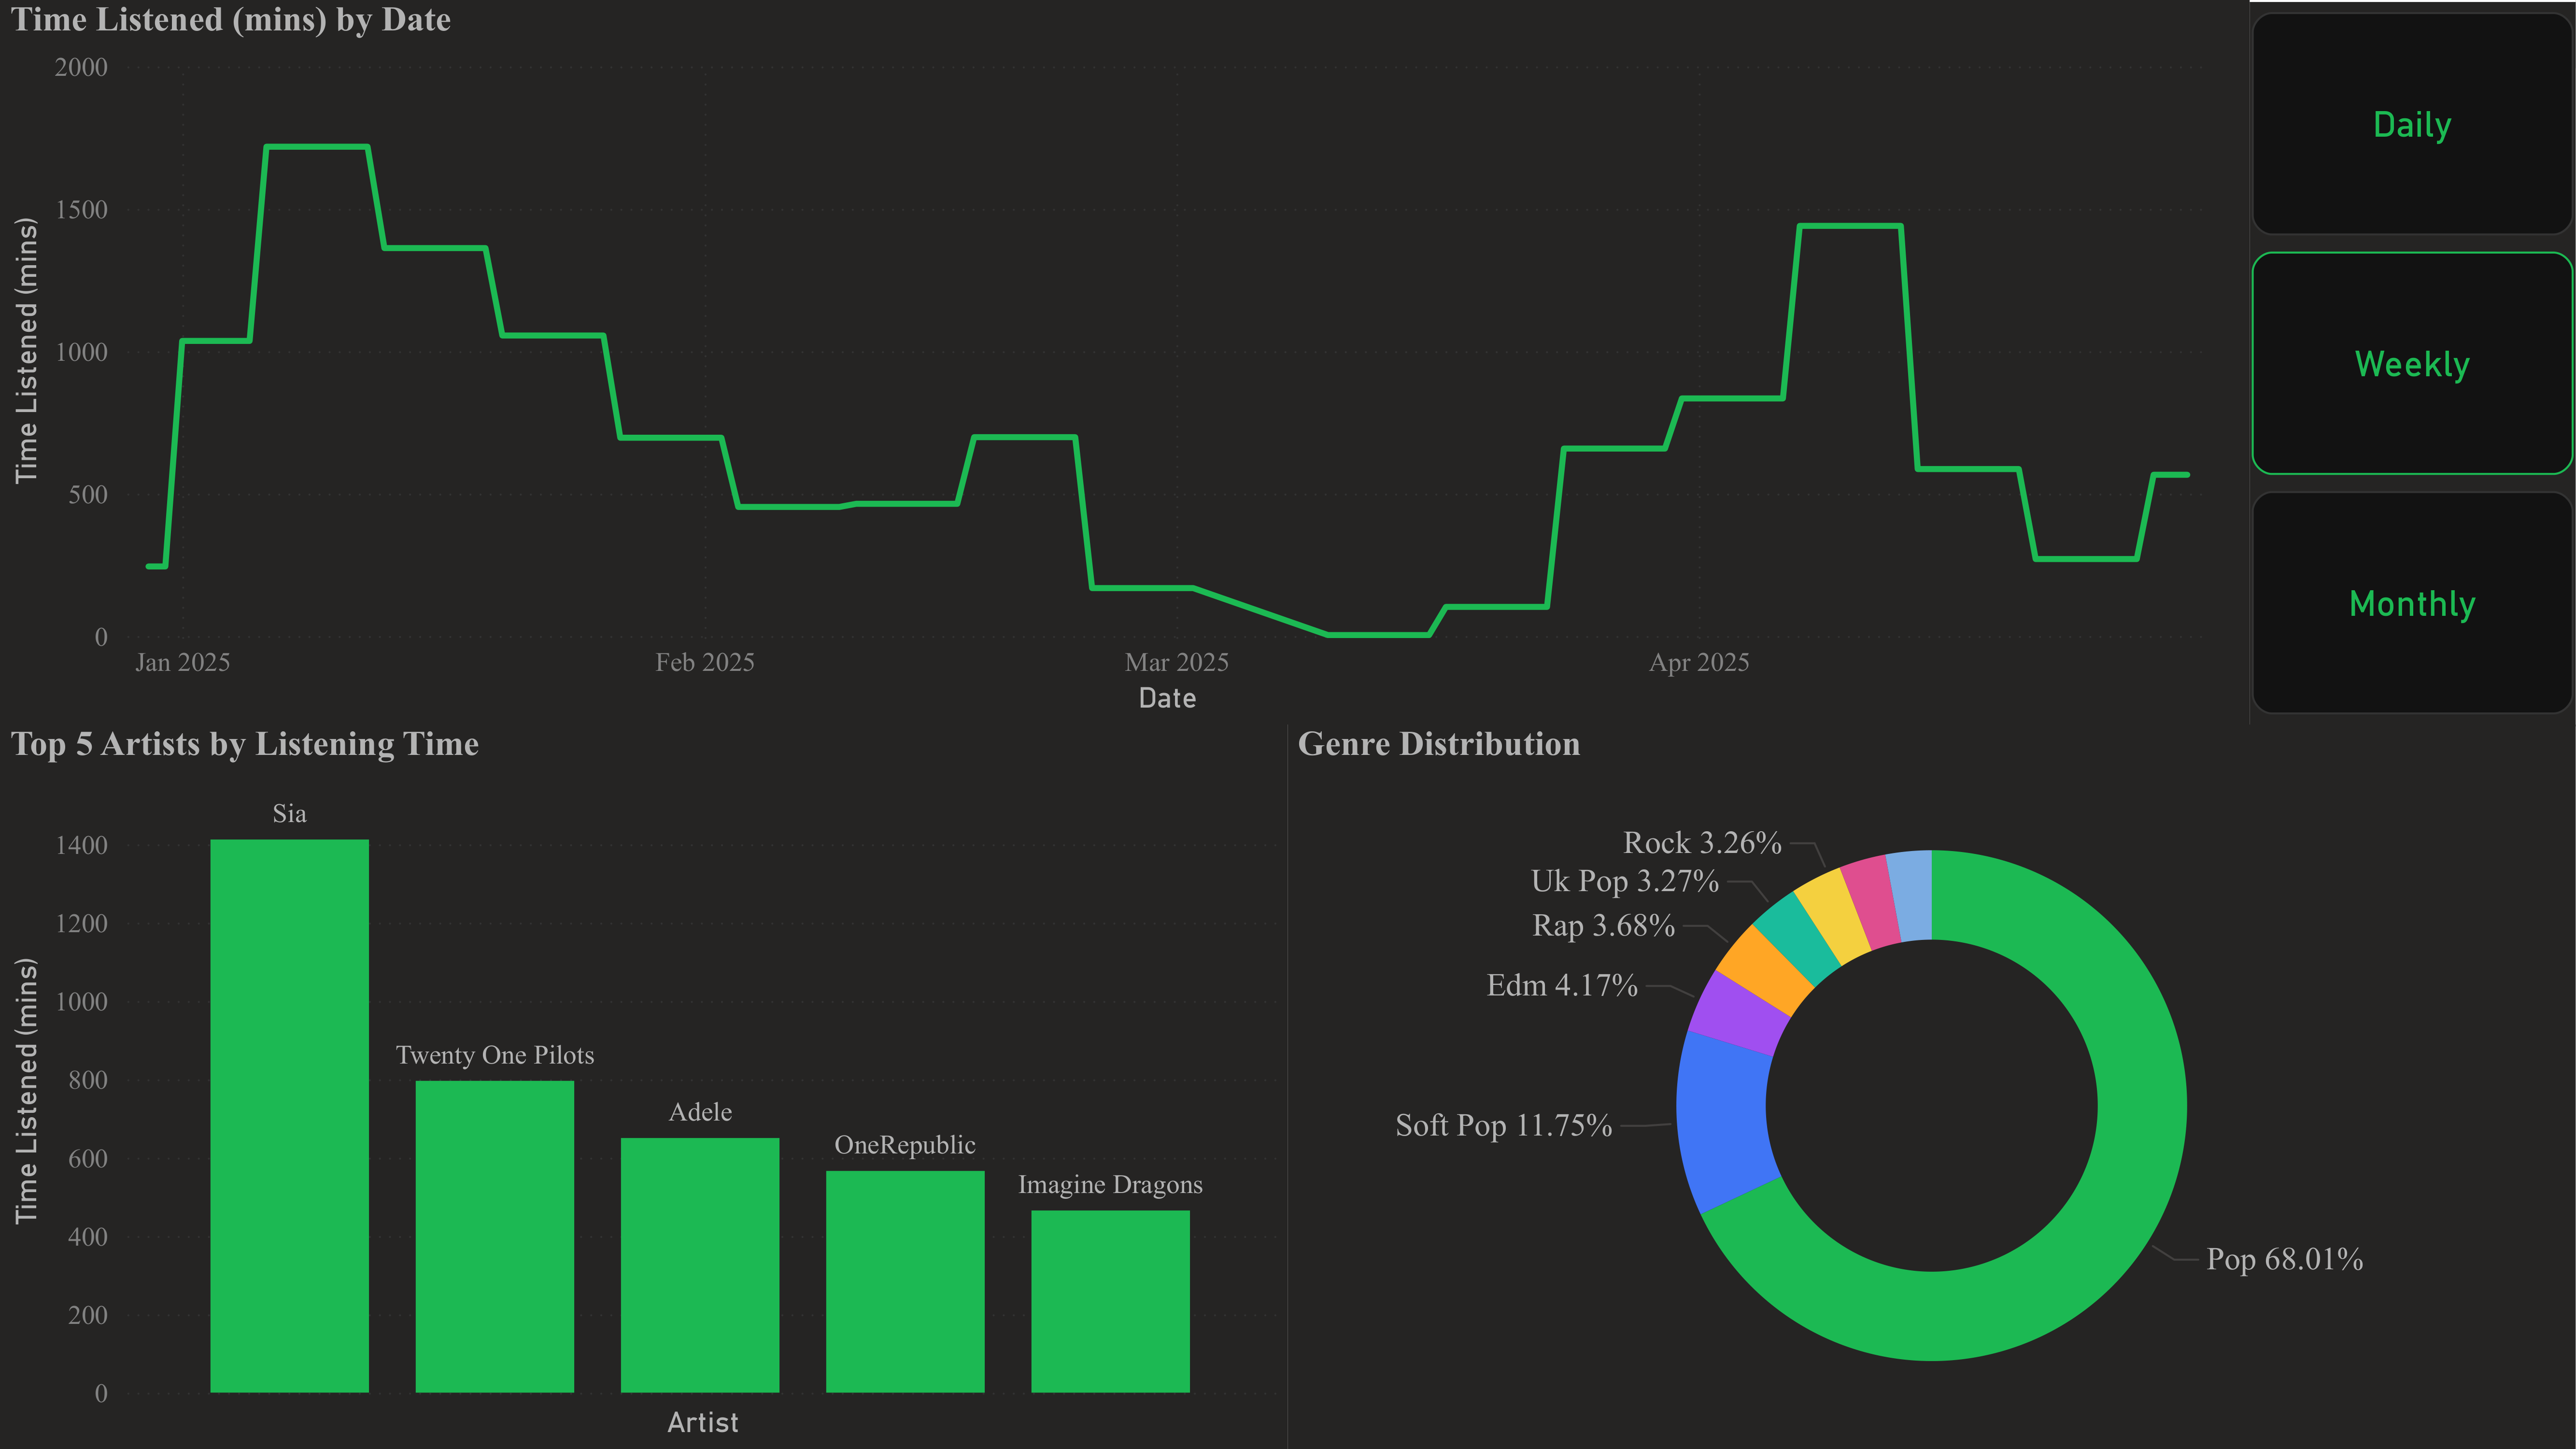

Layout of this report page (visuals, bound fields, positions):
{"tool":"powerbi","page":{"name":"Trends & Distribution","canvas":[1280,720],"ordinal":1},"visuals":[{"type":"lineChart","fields":{"Y":["Listening Data.Time Listened (Dynamic Aggregation)"],"Category":["DateTable.Date"]},"box":[0,0,1118.3,360.3],"z":0},{"type":"columnChart","title":"Top 5 Artists by Listening Time","fields":{"Category":["Artists.Artist"],"Y":["Sum(Artists.time_listened)"]},"box":[0,360.5,640.7,359.3],"z":1000},{"type":"donutChart","title":"Genre Distribution","fields":{"Category":["Genres.genre"],"Y":["Sum(Genres.time_listened)"]},"box":[641,360,639,359],"z":2000},{"type":"advancedSlicerVisual","fields":{"Values":["Aggregation.Aggregation Level"]},"box":[1118.3,1.2,161.9,360.3],"z":3000}]}

Visuals, with their boxes in screenshot pixels (x1, y1, x2, y2), scaled from the page's 1280x720 canvas onto the 2576x1449 screenshot:
lineChart - Listening Data.Time Listened (Dynamic Aggregation) x DateTable.Date: 0, 0, 2250, 725
"Top 5 Artists by Listening Time" columnChart: 0, 725, 1289, 1449
"Genre Distribution" donutChart: 1290, 724, 2576, 1447
advancedSlicerVisual - Aggregation.Aggregation Level: 2250, 2, 2576, 727
